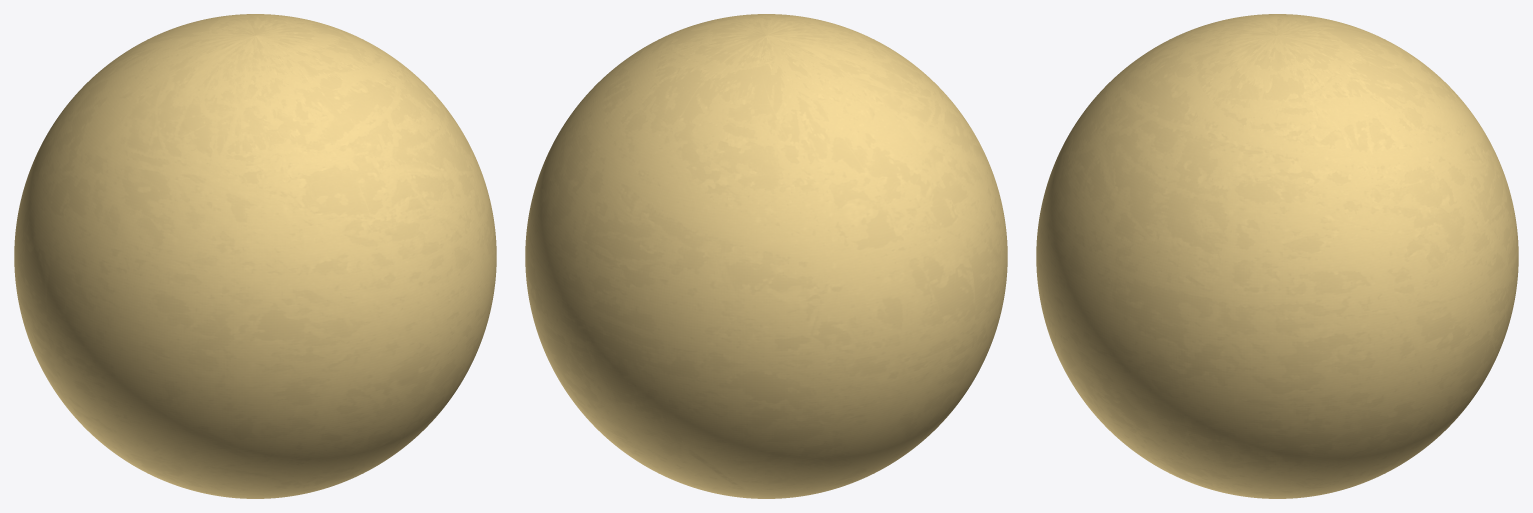
The picture shows the model from 3 angles, left to right: view 1: azimuth 30°, elevation 25°; view 2: azimuth 150°, elevation 25°; view 3: azimuth 270°, elevation 25°; orthographic projection.
Parts seen in each view (by area): view 1: Sphere; view 2: Sphere; view 3: Sphere.
Part boxes in pixels (box(x1,y1,x2,y2)): Sphere: box(14, 14, 496, 498); Sphere: box(525, 14, 1007, 498); Sphere: box(1036, 14, 1518, 498).
Bounding box in the file's own units: 1.97 × 2 × 1.97.
Materials: 1 (1 with a texture image).
